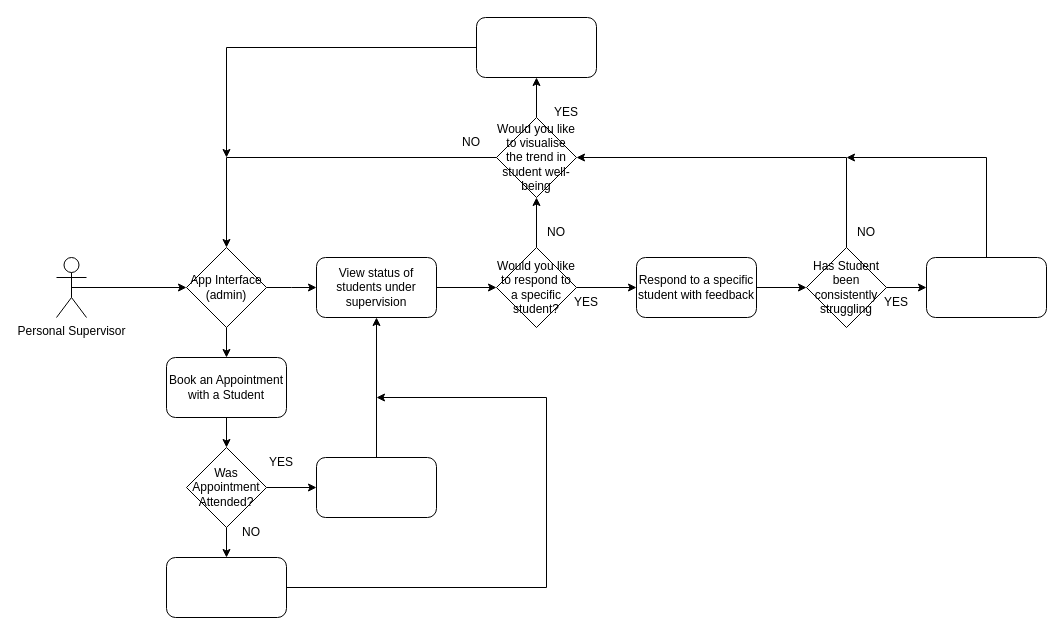
This 1064x635 diagram has some shape labels left out. Each missing label, with the centre of its shape:
"Display Chart of student status reports" goes at (536,47).
"Flag student to student support" goes at (986,287).
"Receive Alert for missed Appointment" goes at (226,587).
"Record notes and feedback after meeting" goes at (376,487).
